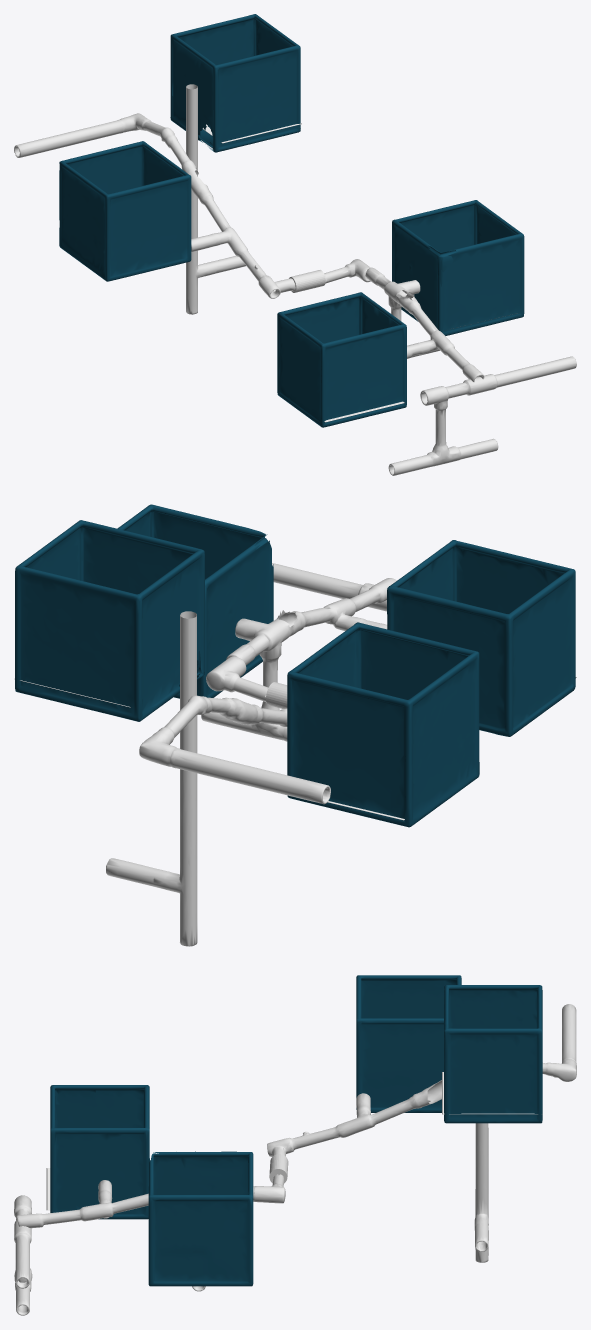
Rendered from bin.dae.
The picture shows the model from 3 angles, top to bottom: view 1: azimuth 30°, elevation 25°; view 2: azimuth 150°, elevation 25°; view 3: azimuth 270°, elevation 25°; orthographic projection. The views are drawn at different scales.
Parts seen in each view (by area): view 1: basket-4, basket-1, basket-2, basket-3, tripo_node_6cbfc029_22ca_444c_880c_1c33f2999f7f.002, tripo_node_6cbfc029_22ca_444c_880c_1c33f2999f7f.004, tripo_node_6cbfc029_22ca_444c_880c_1c33f2999f7f.003, tripo_node_6cbfc029_22ca_444c_880c_1c33f2999f7f.005, tripo_node_6cbfc029_22ca_444c_880c_1c33f2999f7f.001; view 2: basket-4, basket-2, basket-1, basket-3, tripo_node_6cbfc029_22ca_444c_880c_1c33f2999f7f.005, tripo_node_6cbfc029_22ca_444c_880c_1c33f2999f7f.002, tripo_node_6cbfc029_22ca_444c_880c_1c33f2999f7f.003, tripo_node_6cbfc029_22ca_444c_880c_1c33f2999f7f.004, tripo_node_6cbfc029_22ca_444c_880c_1c33f2999f7f.001; view 3: basket-3, basket-2, basket-1, basket-4, tripo_node_6cbfc029_22ca_444c_880c_1c33f2999f7f.002, tripo_node_6cbfc029_22ca_444c_880c_1c33f2999f7f.003, tripo_node_6cbfc029_22ca_444c_880c_1c33f2999f7f.005, tripo_node_6cbfc029_22ca_444c_880c_1c33f2999f7f.004, tripo_node_6cbfc029_22ca_444c_880c_1c33f2999f7f.001.
Boxes of the visible parts, x1,y1,x2,y2 form: basket-4: (59, 141, 191, 281); basket-1: (277, 292, 406, 427); basket-2: (170, 14, 300, 152); basket-3: (392, 200, 524, 335); tripo_node_6cbfc029_22ca_444c_880c_1c33f2999f7f.002: (14, 113, 295, 298); tripo_node_6cbfc029_22ca_444c_880c_1c33f2999f7f.004: (388, 356, 576, 475); tripo_node_6cbfc029_22ca_444c_880c_1c33f2999f7f.003: (365, 267, 484, 381); tripo_node_6cbfc029_22ca_444c_880c_1c33f2999f7f.005: (186, 84, 245, 314); tripo_node_6cbfc029_22ca_444c_880c_1c33f2999f7f.001: (324, 259, 370, 283); basket-4: (287, 622, 479, 827); basket-2: (15, 520, 204, 721); basket-1: (387, 540, 575, 736); basket-3: (117, 504, 273, 698); tripo_node_6cbfc029_22ca_444c_880c_1c33f2999f7f.005: (106, 611, 197, 946); tripo_node_6cbfc029_22ca_444c_880c_1c33f2999f7f.002: (139, 695, 330, 804); tripo_node_6cbfc029_22ca_444c_880c_1c33f2999f7f.003: (201, 578, 396, 741); tripo_node_6cbfc029_22ca_444c_880c_1c33f2999f7f.004: (272, 563, 386, 611); tripo_node_6cbfc029_22ca_444c_880c_1c33f2999f7f.001: (206, 656, 268, 702); basket-3: (148, 1151, 253, 1286); basket-2: (444, 985, 542, 1123); basket-1: (50, 1085, 149, 1219); basket-4: (356, 975, 461, 1112); tripo_node_6cbfc029_22ca_444c_880c_1c33f2999f7f.002: (267, 1004, 576, 1156); tripo_node_6cbfc029_22ca_444c_880c_1c33f2999f7f.003: (16, 1180, 254, 1291); tripo_node_6cbfc029_22ca_444c_880c_1c33f2999f7f.005: (474, 1123, 488, 1262); tripo_node_6cbfc029_22ca_444c_880c_1c33f2999f7f.004: (14, 1195, 32, 1315); tripo_node_6cbfc029_22ca_444c_880c_1c33f2999f7f.001: (253, 1174, 285, 1203).
Bounding box in the file's own units: 1.29 × 1.79 × 1.01.
Materials: 8 (4 with a texture image).
